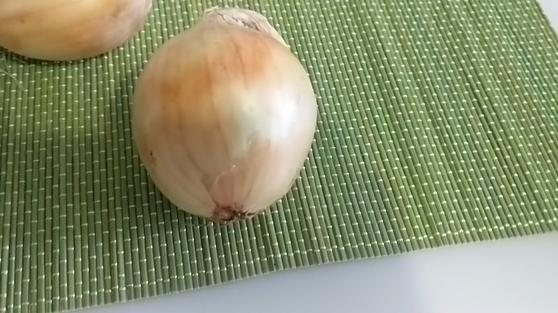onion: (129, 10, 320, 217), (4, 1, 154, 63)
